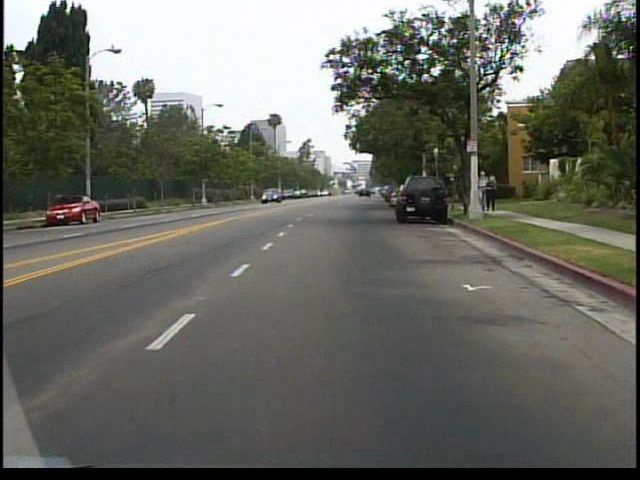person: (481, 173, 499, 215), (476, 167, 488, 212)
